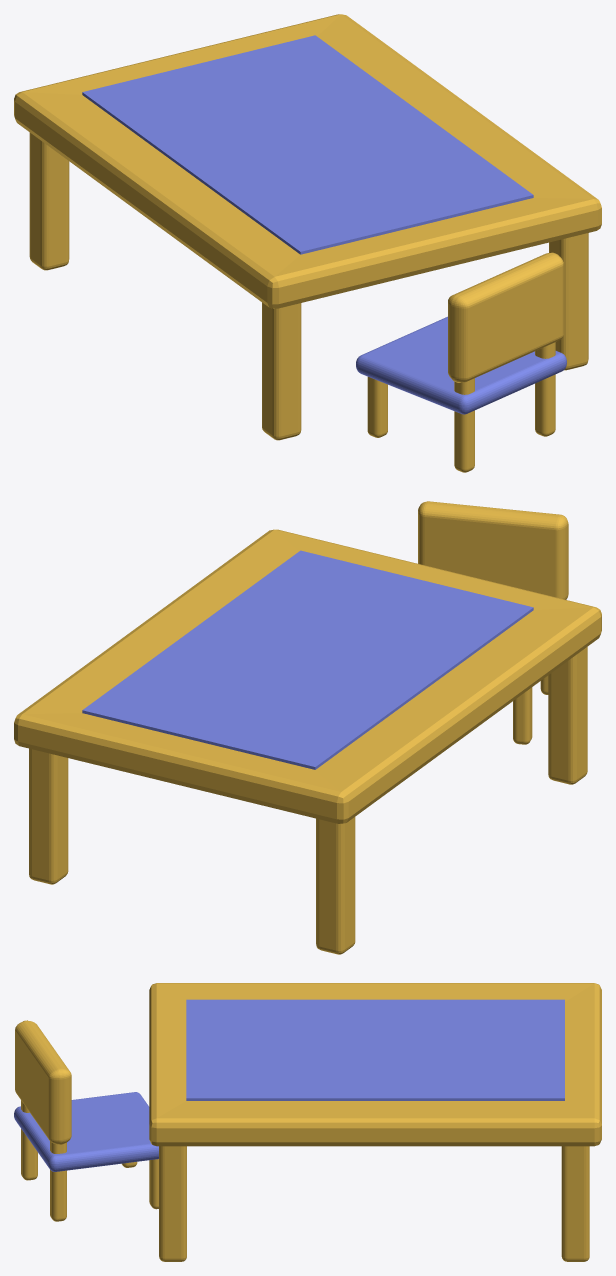
The model's file is desk_refined.fbx.
The picture shows the model from 3 angles, top to bottom: view 1: azimuth 30°, elevation 25°; view 2: azimuth 150°, elevation 25°; view 3: azimuth 270°, elevation 25°; orthographic projection. The views are drawn at different scales.
Parts seen in each view (by area): view 1: Cube, 立方体.005, 立方体, 立方体.003, 立方体.002, 立方体.001, 立方体.006, 立方体.007, 立方体.008; view 2: Cube, 立方体.005, 立方体.002, 立方体.004, 立方体.003, 立方体.008; view 3: Cube, 立方体, 立方体.005, 立方体.004, 立方体.001, 立方体.007, 立方体.006, 立方体.009.
Boxes of the visible parts, x1=… form: Cube: x1=14, y1=14, x2=601, y2=308; 立方体.005: x1=448, y1=252, x2=563, y2=382; 立方体: x1=356, y1=316, x2=566, y2=414; 立方体.003: x1=262, y1=302, x2=301, y2=440; 立方体.002: x1=29, y1=132, x2=69, y2=270; 立方体.001: x1=549, y1=233, x2=588, y2=370; 立方体.006: x1=454, y1=378, x2=474, y2=472; 立方体.007: x1=535, y1=342, x2=555, y2=436; 立方体.008: x1=367, y1=377, x2=387, y2=437; Cube: x1=14, y1=529, x2=601, y2=823; 立方体.005: x1=418, y1=501, x2=568, y2=599; 立方体.002: x1=316, y1=817, x2=355, y2=954; 立方体.004: x1=29, y1=748, x2=68, y2=884; 立方体.003: x1=548, y1=647, x2=587, y2=784; 立方体.008: x1=513, y1=687, x2=532, y2=744; Cube: x1=149, y1=983, x2=601, y2=1146; 立方体: x1=14, y1=1092, x2=158, y2=1171; 立方体.005: x1=15, y1=1020, x2=71, y2=1144; 立方体.004: x1=561, y1=1146, x2=589, y2=1261; 立方体.001: x1=159, y1=1146, x2=186, y2=1261; 立方体.007: x1=50, y1=1141, x2=66, y2=1221; 立方体.006: x1=21, y1=1100, x2=37, y2=1180; 立方体.009: x1=149, y1=1159, x2=158, y2=1209.
Size of the model in its own units: 295 by 150 by 519.
